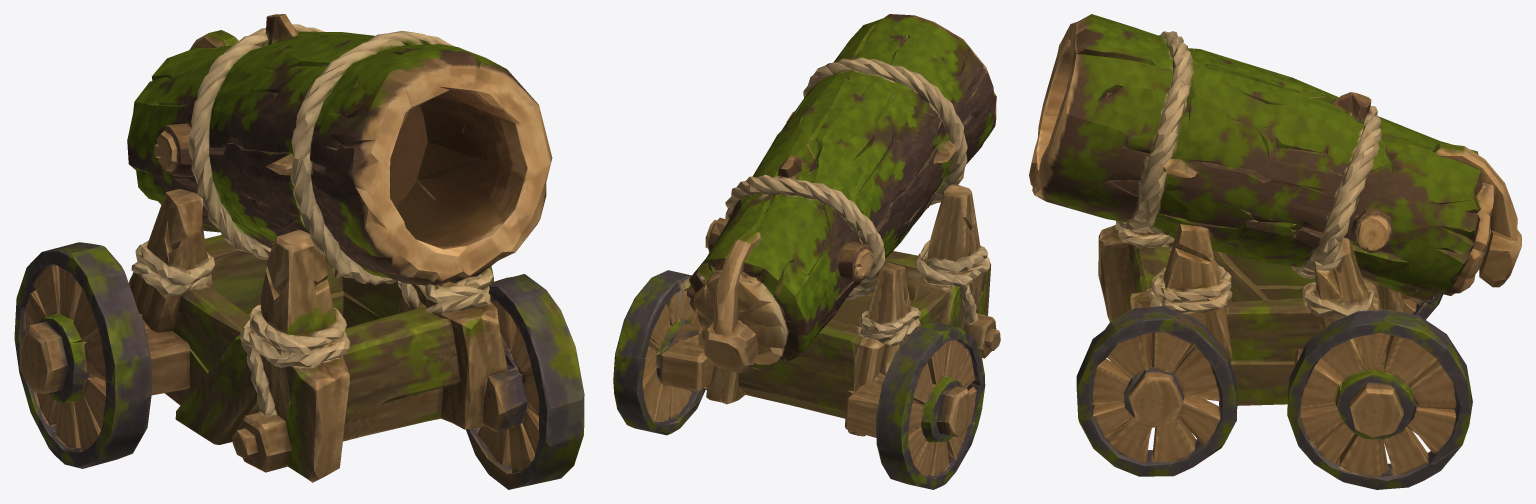
Rendered from cannon-1.glb.
3 renders of one model, left to right at view 1: azimuth 30°, elevation 25°; view 2: azimuth 150°, elevation 25°; view 3: azimuth 270°, elevation 25°, orthographic. The views are drawn at different scales.
Visible parts, largest first — view 1: output_unwrapped; view 2: output_unwrapped; view 3: output_unwrapped.
Boxes of the visible parts, x1,y1,x2,y2 form: output_unwrapped: (14, 14, 584, 489); output_unwrapped: (613, 14, 1000, 489); output_unwrapped: (1029, 14, 1521, 489).
Size of the model in its own units: 1.63 by 1.68 by 1.9.
Materials: 1 (1 with a texture image).
